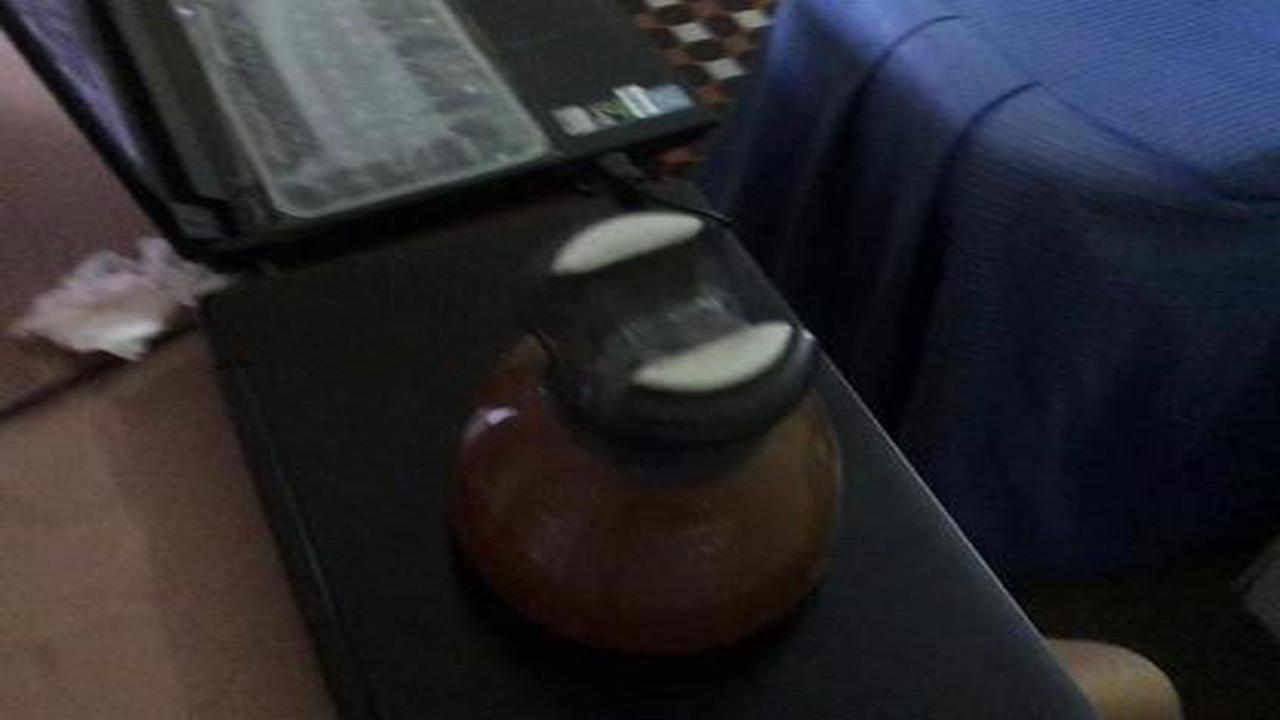insulator_pin: (425, 198, 884, 667)
